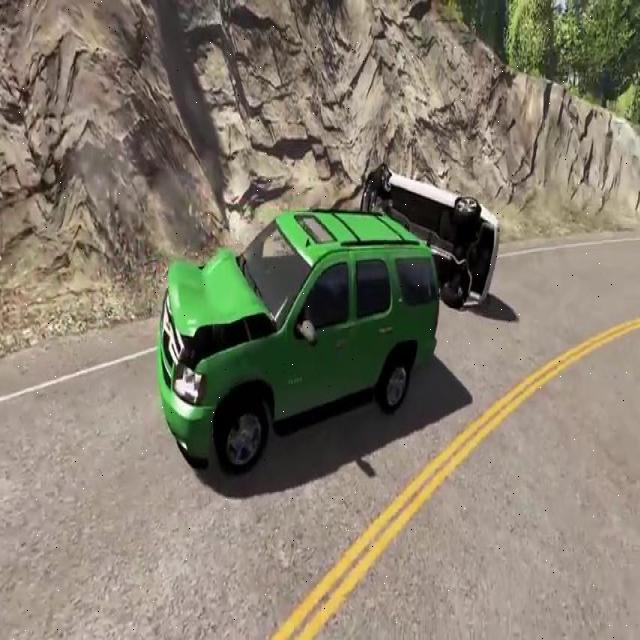severe: (359, 153, 505, 318)
